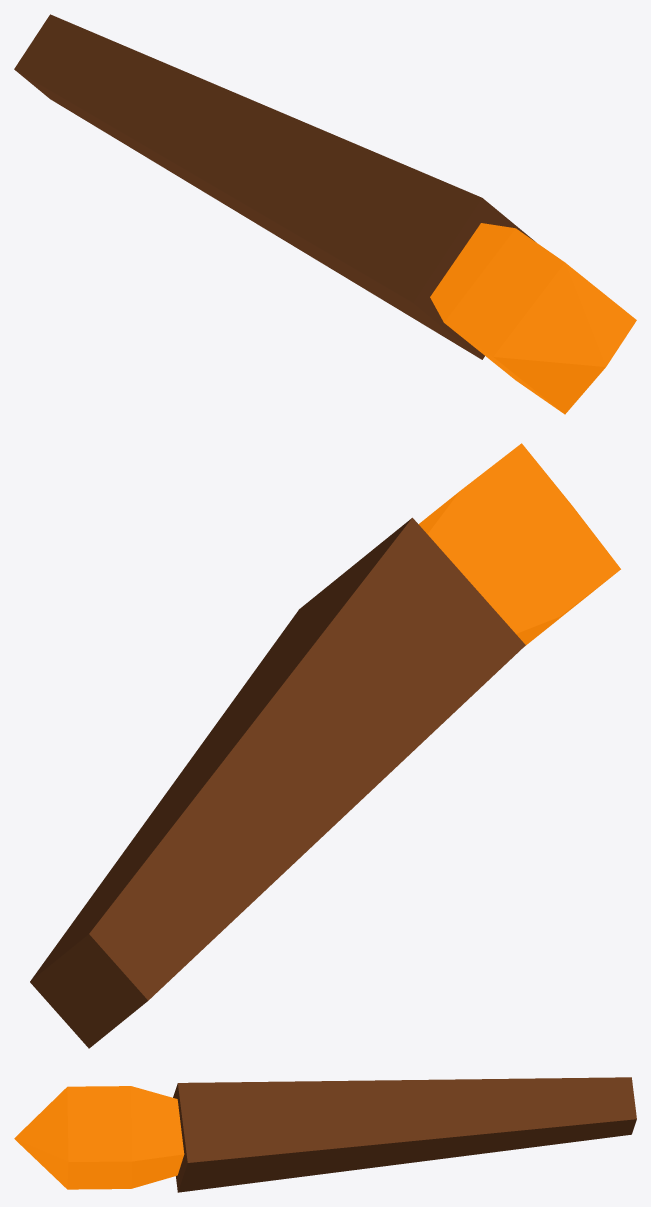
The model's file is torch.glb.
3 views of the same model, one above another, from view 1: azimuth 30°, elevation 25°; view 2: azimuth 150°, elevation 25°; view 3: azimuth 270°, elevation 25° (orthographic). The views are drawn at different scales.
Visible parts, largest first — view 1: torch; view 2: torch; view 3: torch.
Part boxes in pixels (<box>): torch: <box>14,14,636,414</box>; torch: <box>30,443,620,1048</box>; torch: <box>14,1077,636,1192</box>.
Bounding box in the file's own units: 0.099 × 0.0721 × 0.3709.
